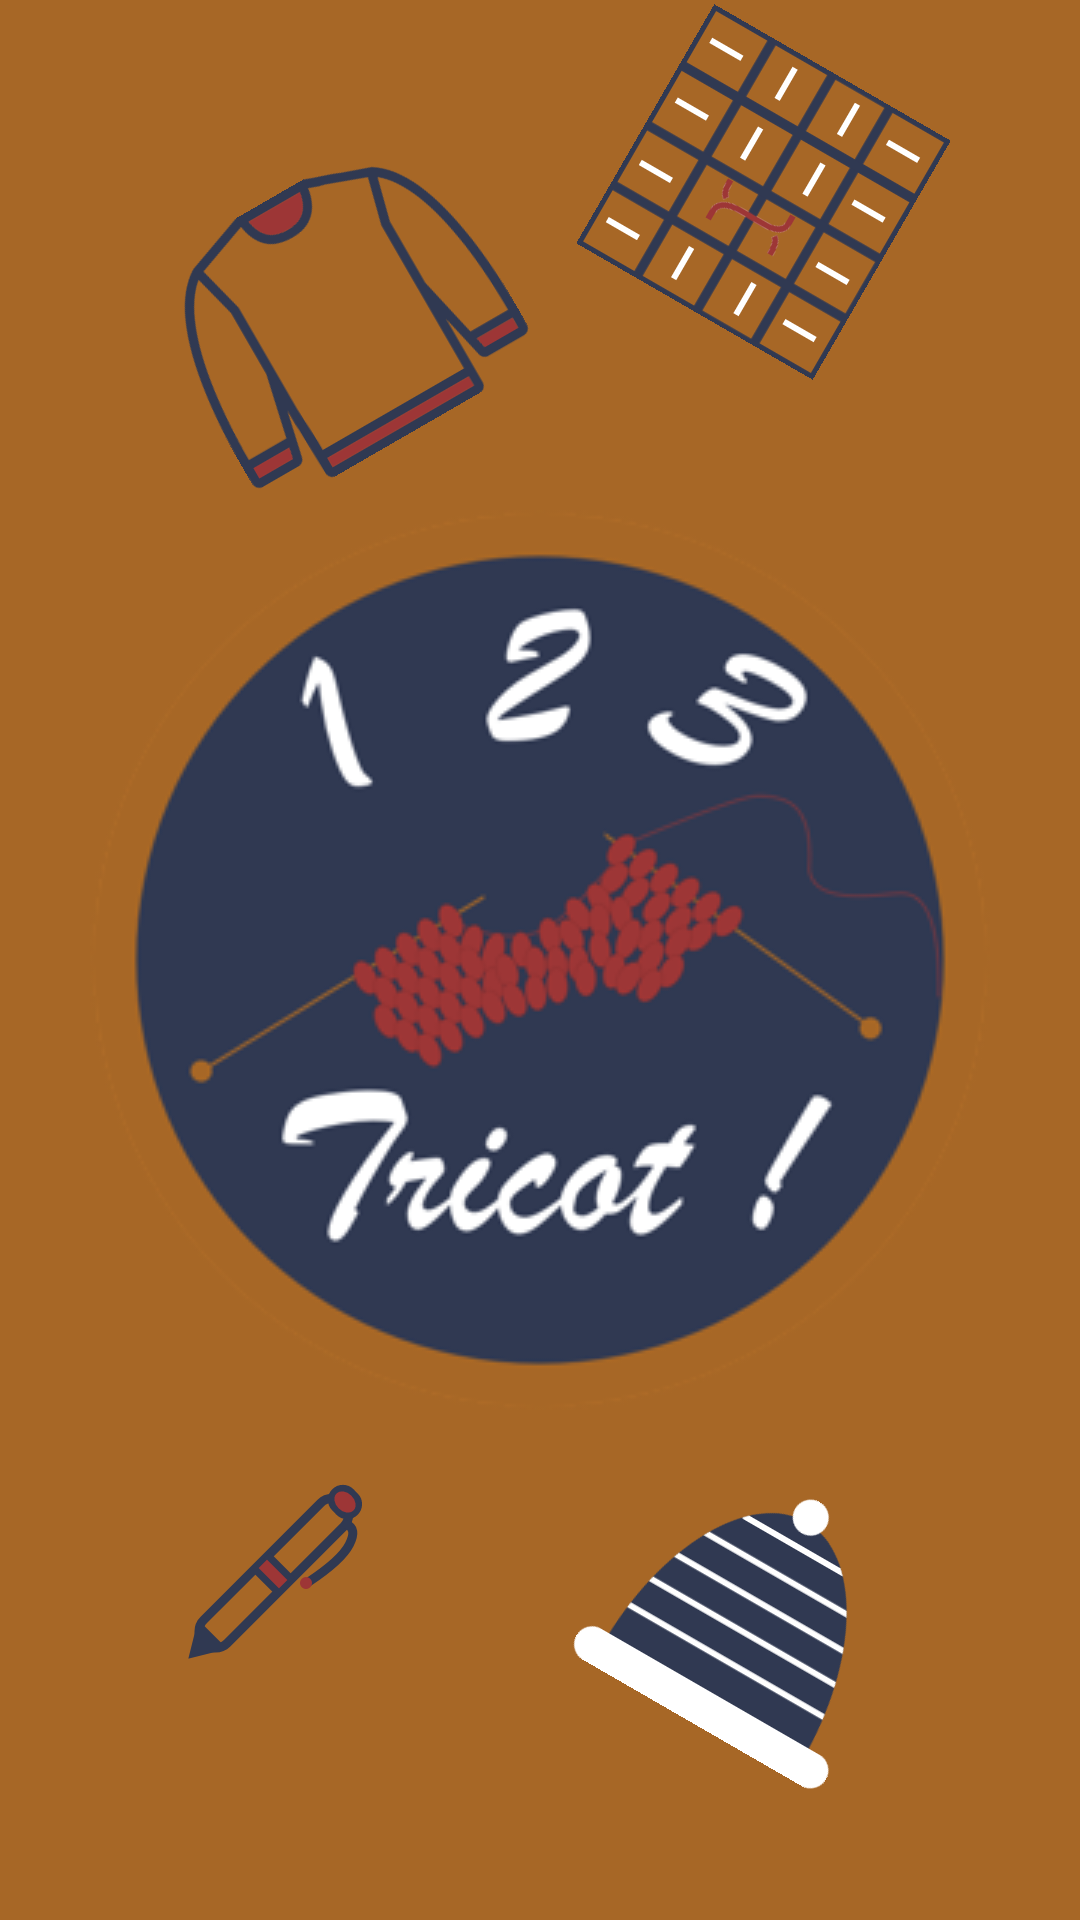

Locate icon controls on the screen. Image size 1080px x 1920px, boxes as (x1, y1, x2, y2).
pen: (188, 1485, 362, 1659)
